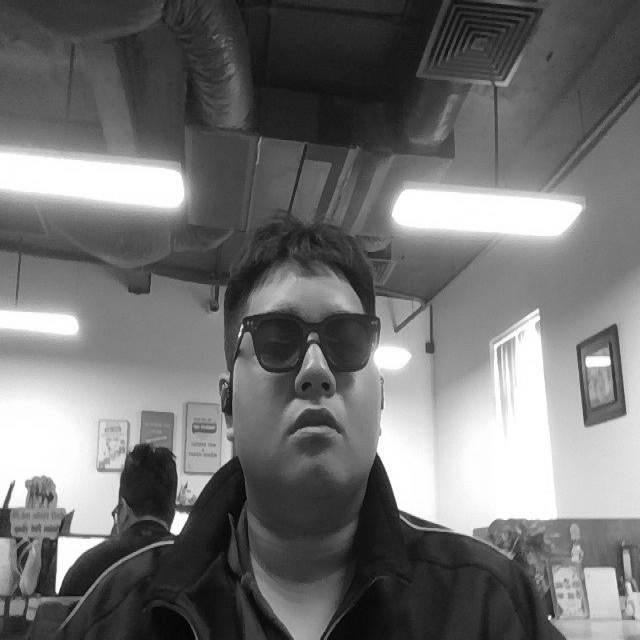fake: (237, 302, 383, 384)
real: (223, 220, 393, 529)
